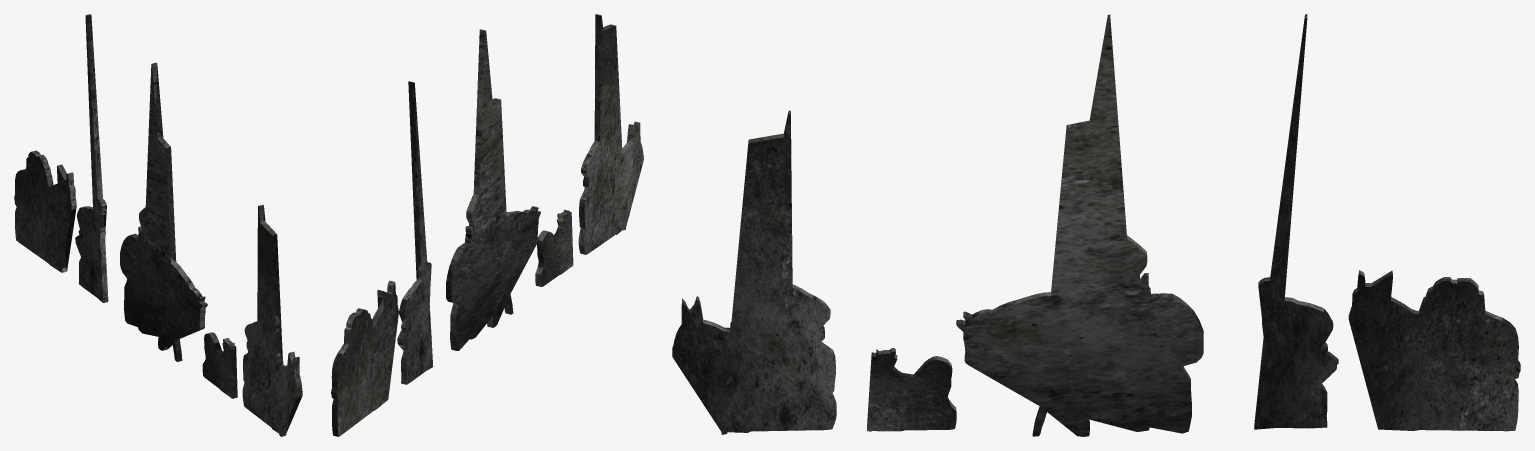
File: piples.fbx
3 views of the same model, side by side, from view 1: azimuth 30°, elevation 25°; view 2: azimuth 150°, elevation 25°; view 3: azimuth 270°, elevation 25° (orthographic). The views are drawn at different scales.
Parts seen in each view (by area): view 1: Plane.001, Vert.003, Vert.001, Vert, Vert.002; view 2: Plane.001, Vert.003, Vert.001, Vert, Vert.002; view 3: Plane.001, Vert.003, Vert.001, Vert, Vert.002.
Part boxes in pixels (x1,y1,x2,y2): Plane.001: [120, 62, 207, 361]; Vert.003: [242, 205, 302, 436]; Vert.001: [14, 150, 76, 272]; Vert: [75, 14, 108, 302]; Vert.002: [202, 332, 237, 398]; Plane.001: [446, 29, 540, 350]; Vert.003: [578, 14, 643, 254]; Vert.001: [331, 280, 398, 436]; Vert: [397, 81, 433, 384]; Vert.002: [535, 209, 573, 286]; Plane.001: [956, 14, 1203, 436]; Vert.003: [672, 110, 836, 434]; Vert.001: [1348, 270, 1520, 431]; Vert: [1254, 14, 1338, 429]; Vert.002: [867, 348, 956, 431].
Bounding box in the file's own units: 4.81 × 455 × 248.
